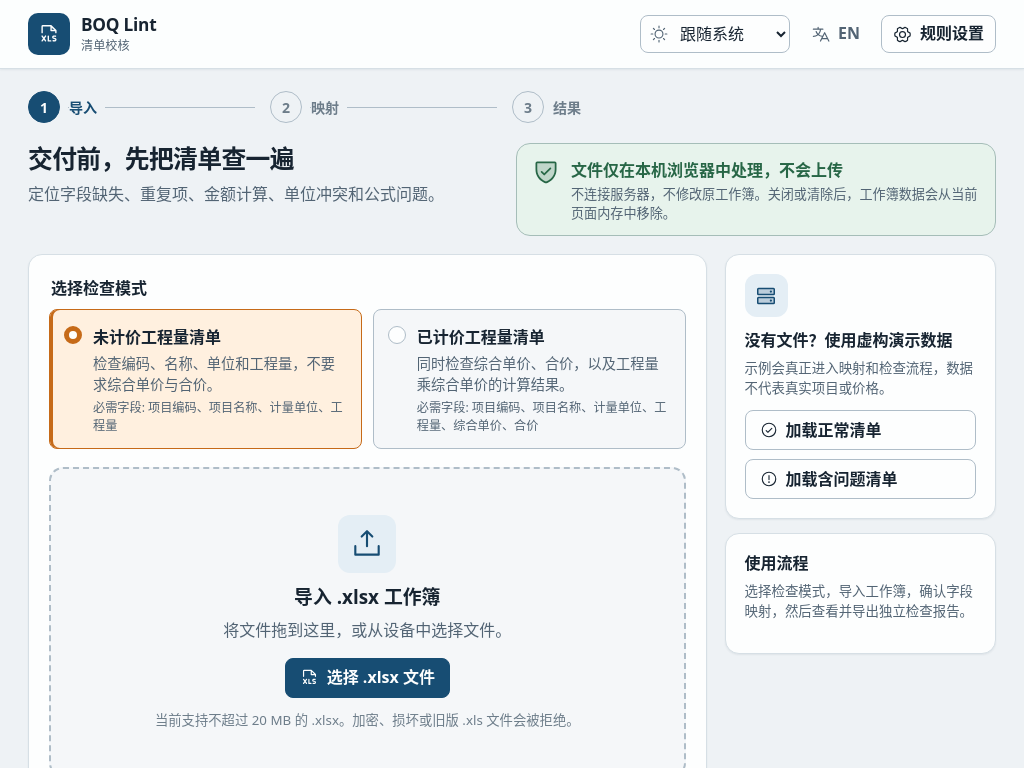
App › 切换整页语言和主题并保存非工作簿偏好
The image size is (1024, 768).
Select "深色" in the dropdown with test id "theme-toggle" at (730, 34), box [672, 16, 789, 52]
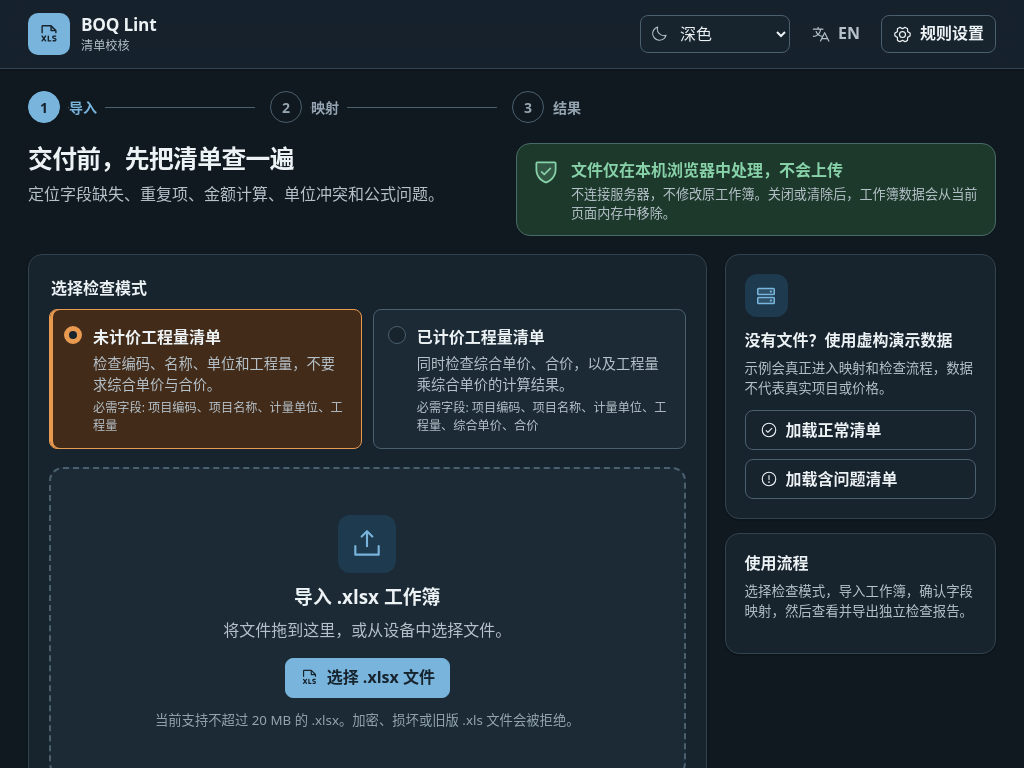
Click the button with test id "language-toggle".
click(836, 34)  # box [799, 15, 872, 53]
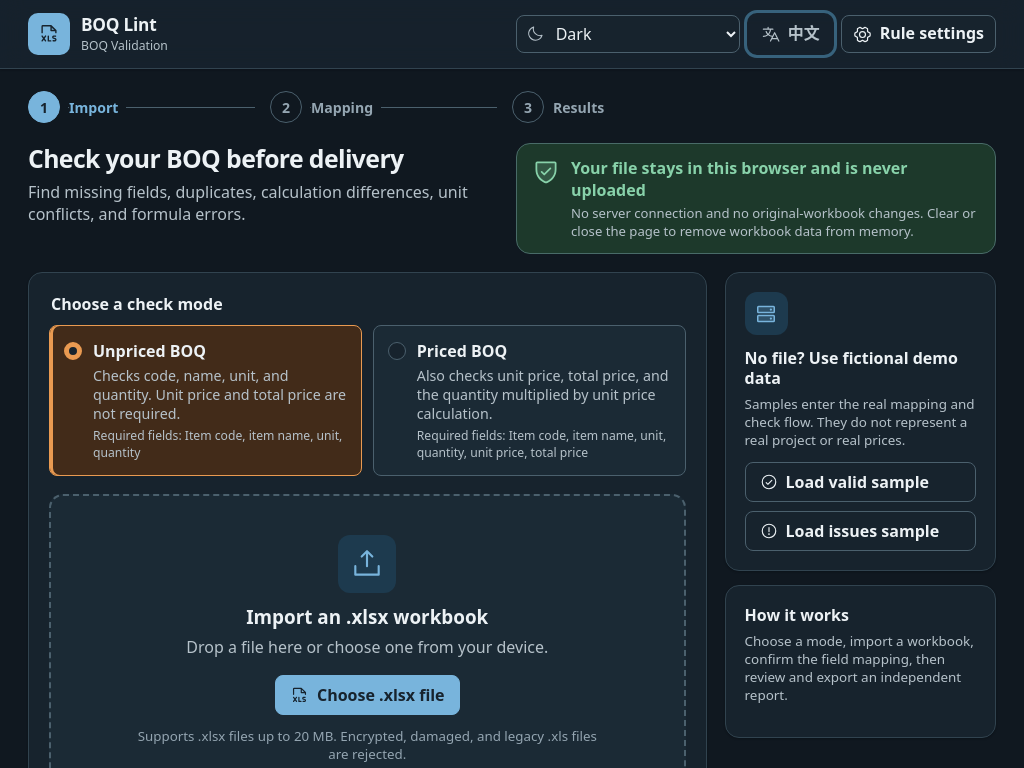
Result: the heading "Check your BOQ before delivery" is shown at [28, 141, 404, 175]
Result: the text with test id "privacy-message" shows "never uploaded" at [571, 157, 908, 201]
